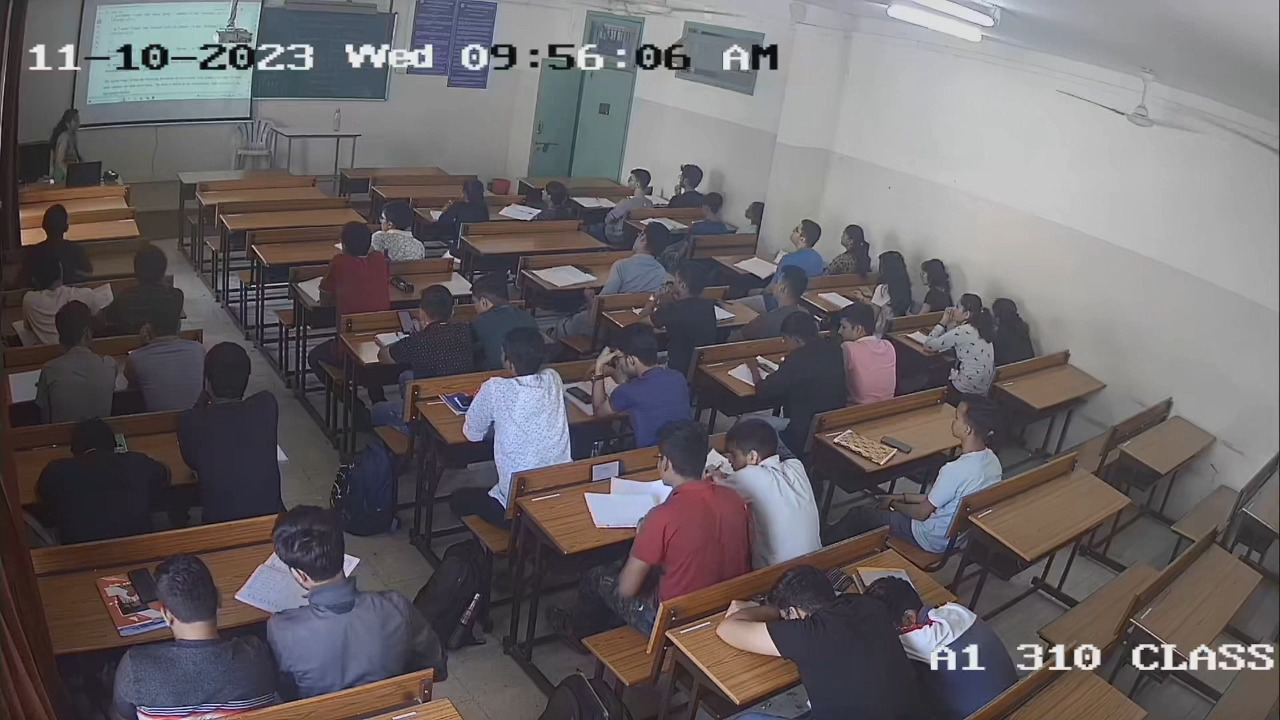cell-phones: (127, 566, 162, 604), (589, 458, 621, 483), (880, 435, 912, 455), (565, 386, 598, 405), (396, 309, 417, 335), (757, 359, 777, 375)
person: (111, 549, 283, 720), (615, 417, 757, 607), (908, 395, 1004, 537), (591, 321, 695, 447), (387, 283, 478, 379), (769, 312, 848, 411)
